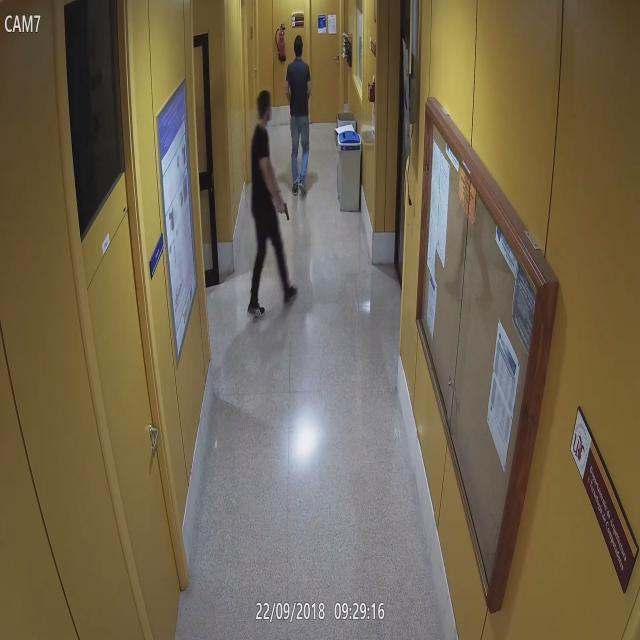Gun: (277, 193, 299, 229)
